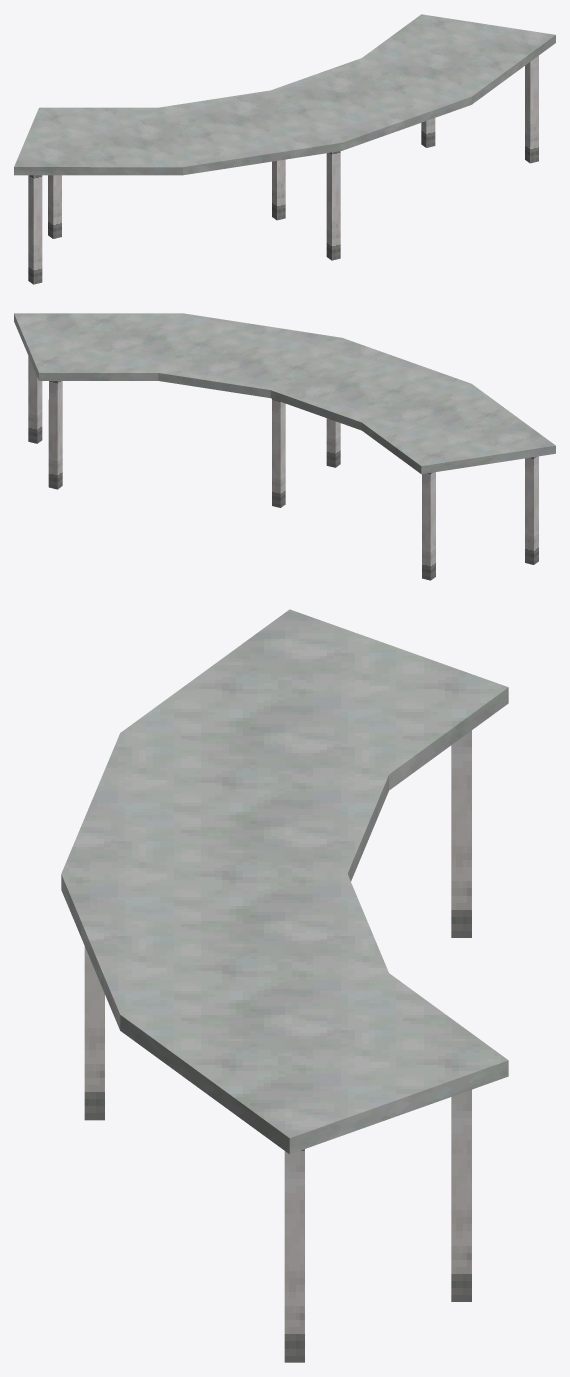
File: frn_all_mdrn_coffee_table_s02_l2.fbx
3 views of the same model, one above another, from view 1: azimuth 30°, elevation 25°; view 2: azimuth 150°, elevation 25°; view 3: azimuth 270°, elevation 25° (orthographic). The views are drawn at different scales.
Parts seen in each view (by area): view 1: mesh_node; view 2: mesh_node; view 3: mesh_node.
Boxes of the visible parts, <box> form: mesh_node: <box>14,14,555,284</box>; mesh_node: <box>14,313,555,580</box>; mesh_node: <box>61,609,508,1362</box>.
Size of the model in its own units: 2.81 by 0.6 by 1.
